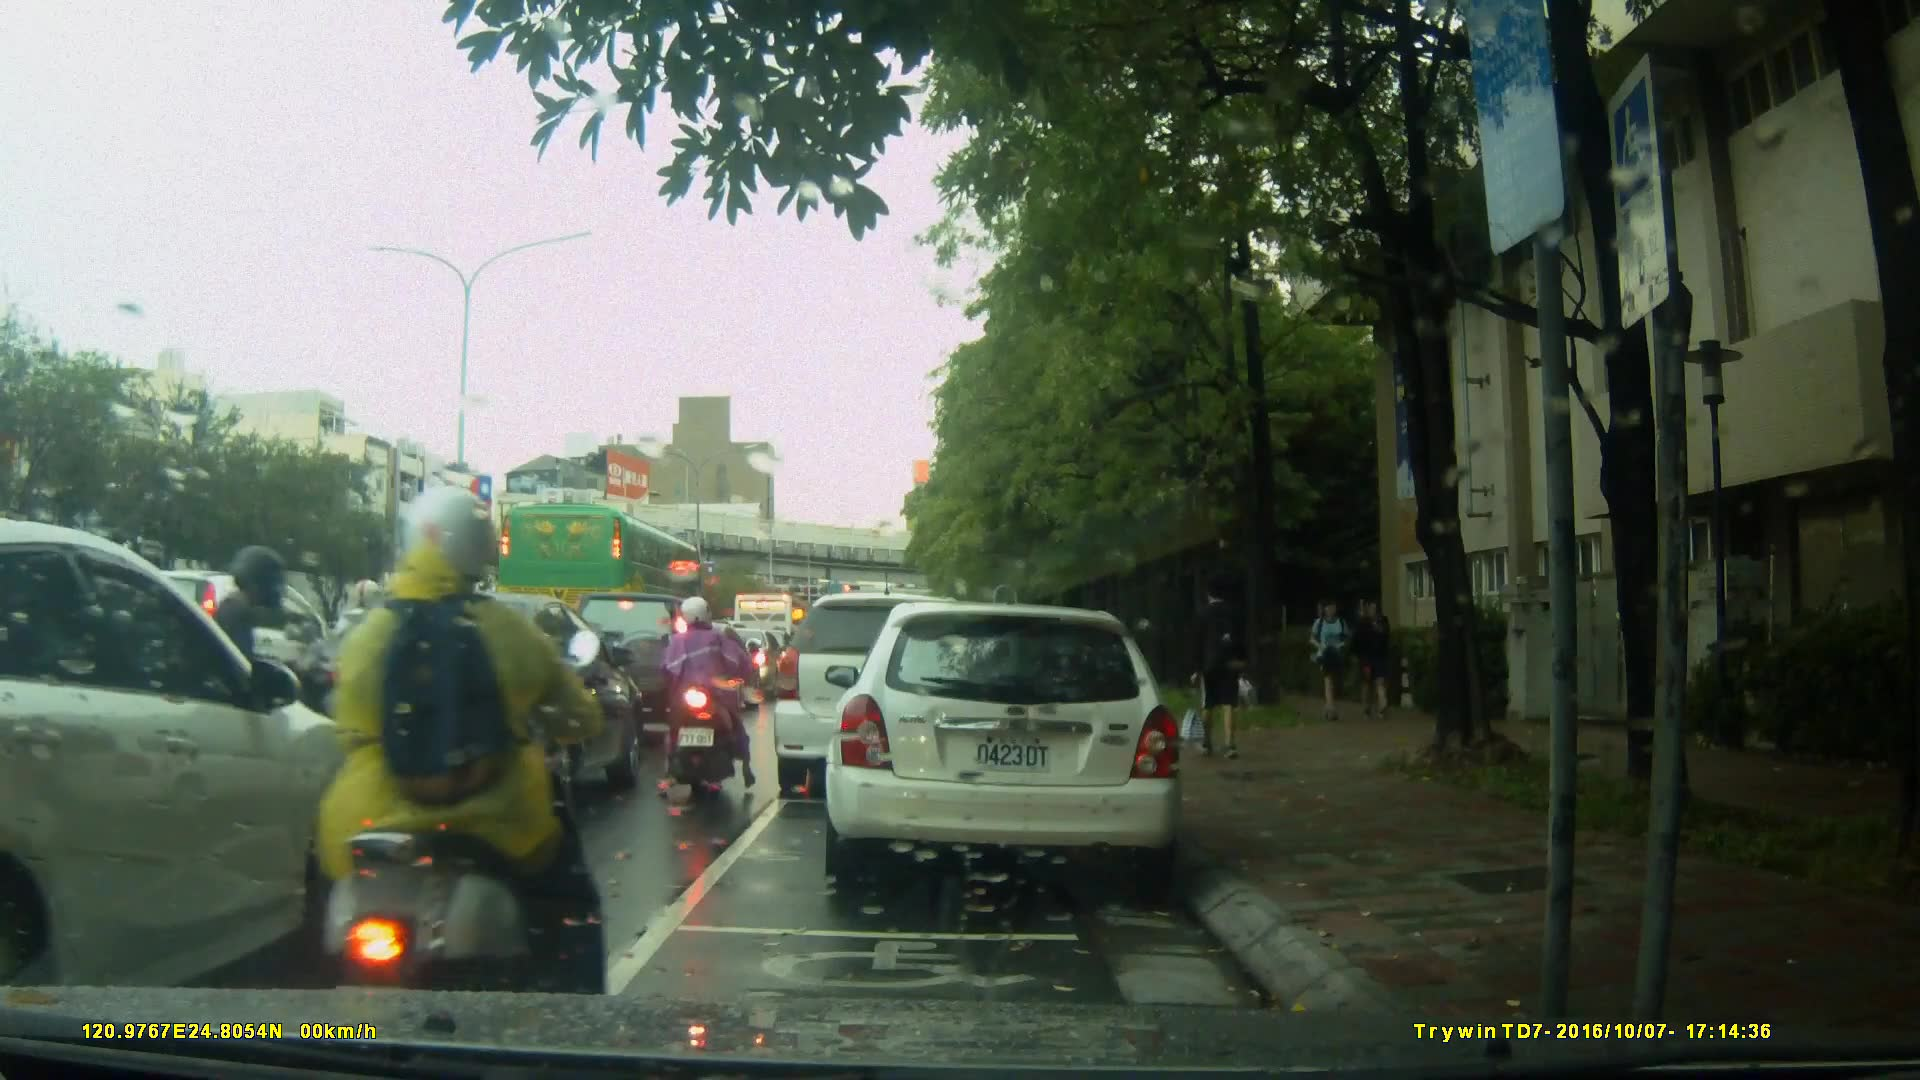pedestrian: (1184, 573, 1251, 762), (1310, 589, 1366, 726), (1349, 593, 1388, 720)
rider: (321, 482, 610, 1052), (168, 549, 386, 860), (662, 592, 757, 797), (318, 576, 408, 744)
vehicle: (1, 519, 377, 985), (831, 592, 1196, 897), (282, 589, 647, 817), (36, 568, 363, 757), (770, 592, 999, 800), (559, 584, 748, 751), (495, 502, 707, 643)
